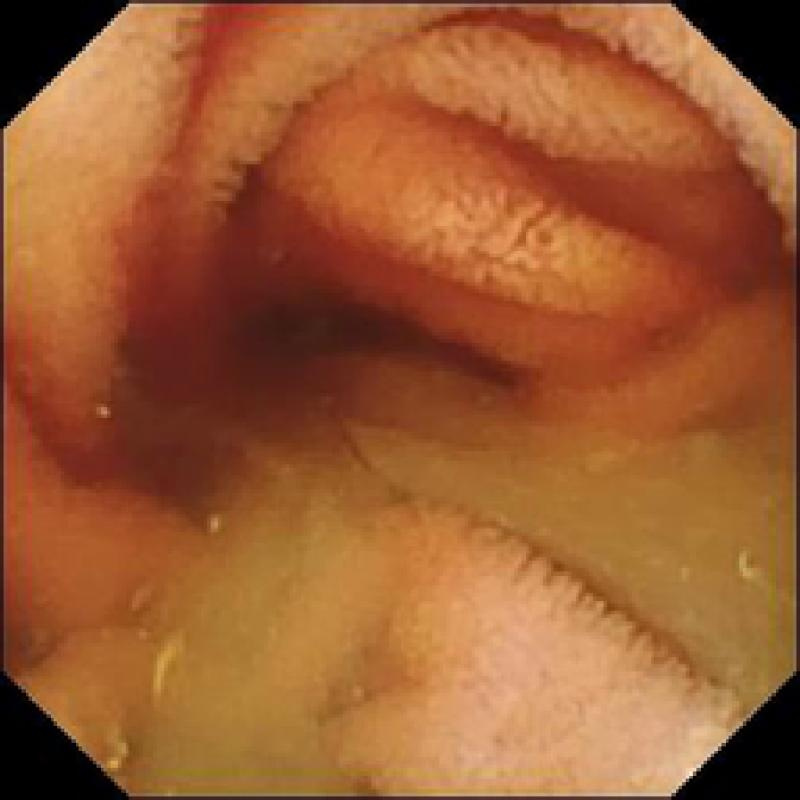bleeding: (32, 0, 796, 496)
